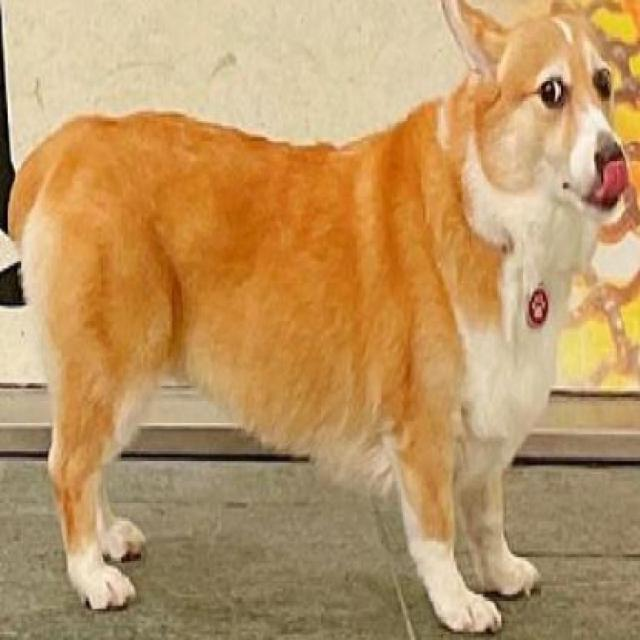Dog: (10, 1, 632, 638)
